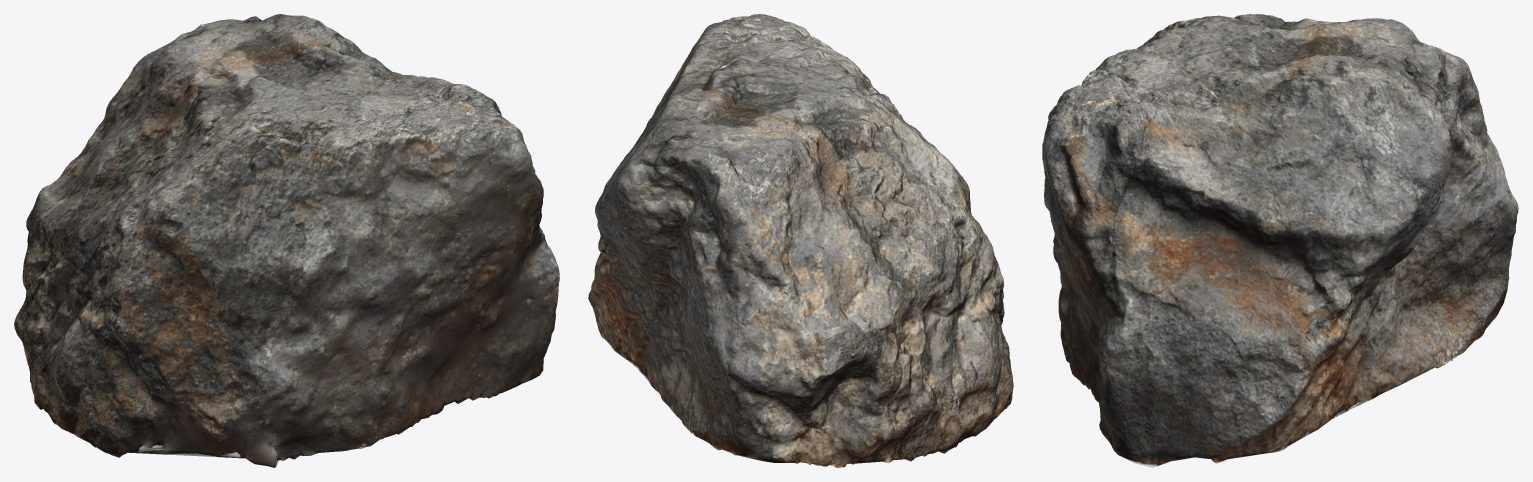
File: sparse2.glb
3 views of the same model, side by side, from view 1: azimuth 30°, elevation 25°; view 2: azimuth 150°, elevation 25°; view 3: azimuth 270°, elevation 25° (orthographic). The views are drawn at different scales.
Parts seen in each view (by area): view 1: Node; view 2: Node; view 3: Node.
Boxes of the visible parts, box(x1,y1,x2,y2) form: Node: box(14, 14, 559, 467); Node: box(588, 14, 1013, 467); Node: box(1042, 14, 1518, 467).
Size of the model in its own units: 4.22 by 2.9 by 3.75.
Materials: 1 (1 with a texture image).
